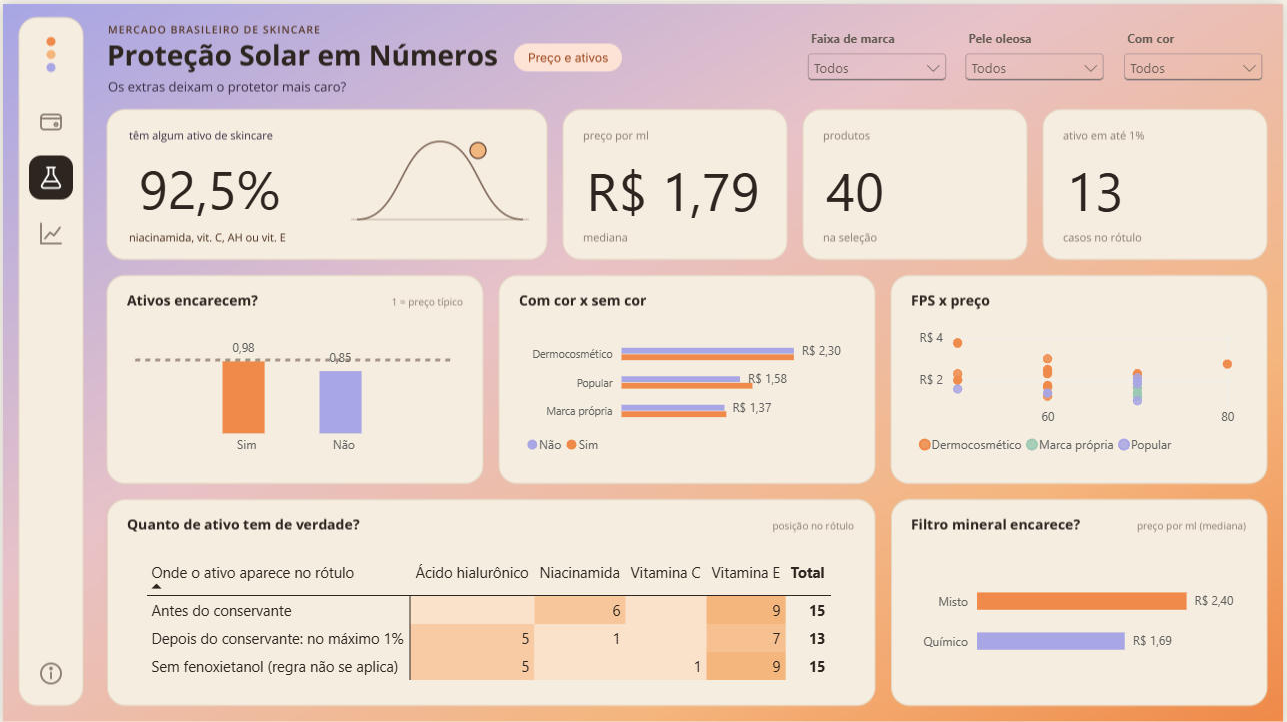

What the dashboard file says about the page in this screenshot:
{"tool":"powerbi","page":{"name":"Preço e ativos","canvas":[1280,720],"ordinal":1},"visuals":[{"type":"actionButton","title":"Custo","box":[26,98,44,44],"z":0},{"type":"group","id":"g1","title":"Grupo 1","box":[25.6,97.8,43.9,596.1],"z":1000},{"type":"slicer","fields":{"Values":["produtos.faixa"]},"box":[800,26,148,56],"z":2000},{"type":"slicer","fields":{"Values":["produtos.pele_oleosa_ou_toque_seco"]},"box":[958,26,148,56],"z":3000},{"type":"actionButton","title":"Sobre os dados","box":[25.6,649.8,44,44],"z":3000,"group":"g1"},{"type":"actionButton","title":"Inflação e procura","box":[25.6,209.8,44,44],"z":3125,"group":"g1"},{"type":"actionButton","title":"Preço e ativos","box":[25.6,153.8,44,44],"z":3250,"group":"g1"},{"type":"actionButton","title":"Custo","box":[25.6,97.8,44,44],"z":3500,"group":"g1"},{"type":"slicer","fields":{"Values":["produtos.com_cor"]},"box":[1116,26,148,56],"z":4000},{"type":"cardVisual","fields":{"Data":["produtos.% com ativo extra"]},"box":[120,142,300,80],"z":5000},{"type":"cardVisual","fields":{"Data":["produtos.Preço por ml (mediana)"]},"box":[568,150,208,70],"z":6000},{"type":"cardVisual","fields":{"Data":["produtos.Produtos"]},"box":[808,150,208,70],"z":7000},{"type":"cardVisual","fields":{"Data":["ativos.Ativos em até 1%"]},"box":[1048,150,208,70],"z":8000},{"type":"clusteredColumnChart","fields":{"Category":["produtos.tem_ativo_extra"],"Y":["produtos.Preço relativo à faixa"]},"box":[116,310,352,160],"z":8001},{"type":"clusteredBarChart","fields":{"Category":["produtos.faixa"],"Series":["produtos.com_cor"],"Y":["produtos.Preço por ml (mediana)"]},"box":[508,310,352,160],"z":8002},{"type":"scatterChart","fields":{"Category":["produtos.produto"],"Series":["produtos.faixa"],"X":["Sum(produtos.fps)"],"Y":["Sum(produtos.preco_por_ml)"]},"box":[900,310,352,160],"z":8003},{"type":"pivotTable","fields":{"Columns":["ativos.ativo"],"Rows":["ativos.situacao"],"Values":["ativos.Casos no rótulo"]},"box":[127.5,540,758.8,170],"z":8004},{"type":"clusteredBarChart","fields":{"Category":["produtos.tipo_filtro"],"Y":["produtos.Preço por ml (mediana)"]},"box":[900,530,352,170],"z":8005}]}

Visuals, with their boxes on the page's 1280x720 design canvas (x1, y1, x2, y2). These are canvas units, not pixel positions in the 1287x722 screenshot, which may show the page scaled, cropped or inside an application window:
"Custo" actionButton: {"x1": 26, "y1": 98, "x2": 70, "y2": 142}
"Grupo 1" group: {"x1": 26, "y1": 98, "x2": 70, "y2": 694}
slicer - produtos.faixa: {"x1": 800, "y1": 26, "x2": 948, "y2": 82}
slicer - produtos.pele_oleosa_ou_toque_seco: {"x1": 958, "y1": 26, "x2": 1106, "y2": 82}
"Sobre os dados" actionButton: {"x1": 26, "y1": 650, "x2": 70, "y2": 694}
"Inflação e procura" actionButton: {"x1": 26, "y1": 210, "x2": 70, "y2": 254}
"Preço e ativos" actionButton: {"x1": 26, "y1": 154, "x2": 70, "y2": 198}
"Custo" actionButton: {"x1": 26, "y1": 98, "x2": 70, "y2": 142}
slicer - produtos.com_cor: {"x1": 1116, "y1": 26, "x2": 1264, "y2": 82}
cardVisual - produtos.% com ativo extra: {"x1": 120, "y1": 142, "x2": 420, "y2": 222}
cardVisual - produtos.Preço por ml (mediana): {"x1": 568, "y1": 150, "x2": 776, "y2": 220}
cardVisual - produtos.Produtos: {"x1": 808, "y1": 150, "x2": 1016, "y2": 220}
cardVisual - ativos.Ativos em até 1%: {"x1": 1048, "y1": 150, "x2": 1256, "y2": 220}
clusteredColumnChart - produtos.tem_ativo_extra x produtos.Preço relativo à faixa: {"x1": 116, "y1": 310, "x2": 468, "y2": 470}
clusteredBarChart - produtos.faixa x produtos.com_cor: {"x1": 508, "y1": 310, "x2": 860, "y2": 470}
scatterChart - produtos.produto x produtos.faixa: {"x1": 900, "y1": 310, "x2": 1252, "y2": 470}
pivotTable - ativos.ativo x ativos.situacao: {"x1": 128, "y1": 540, "x2": 886, "y2": 710}
clusteredBarChart - produtos.tipo_filtro x produtos.Preço por ml (mediana): {"x1": 900, "y1": 530, "x2": 1252, "y2": 700}
